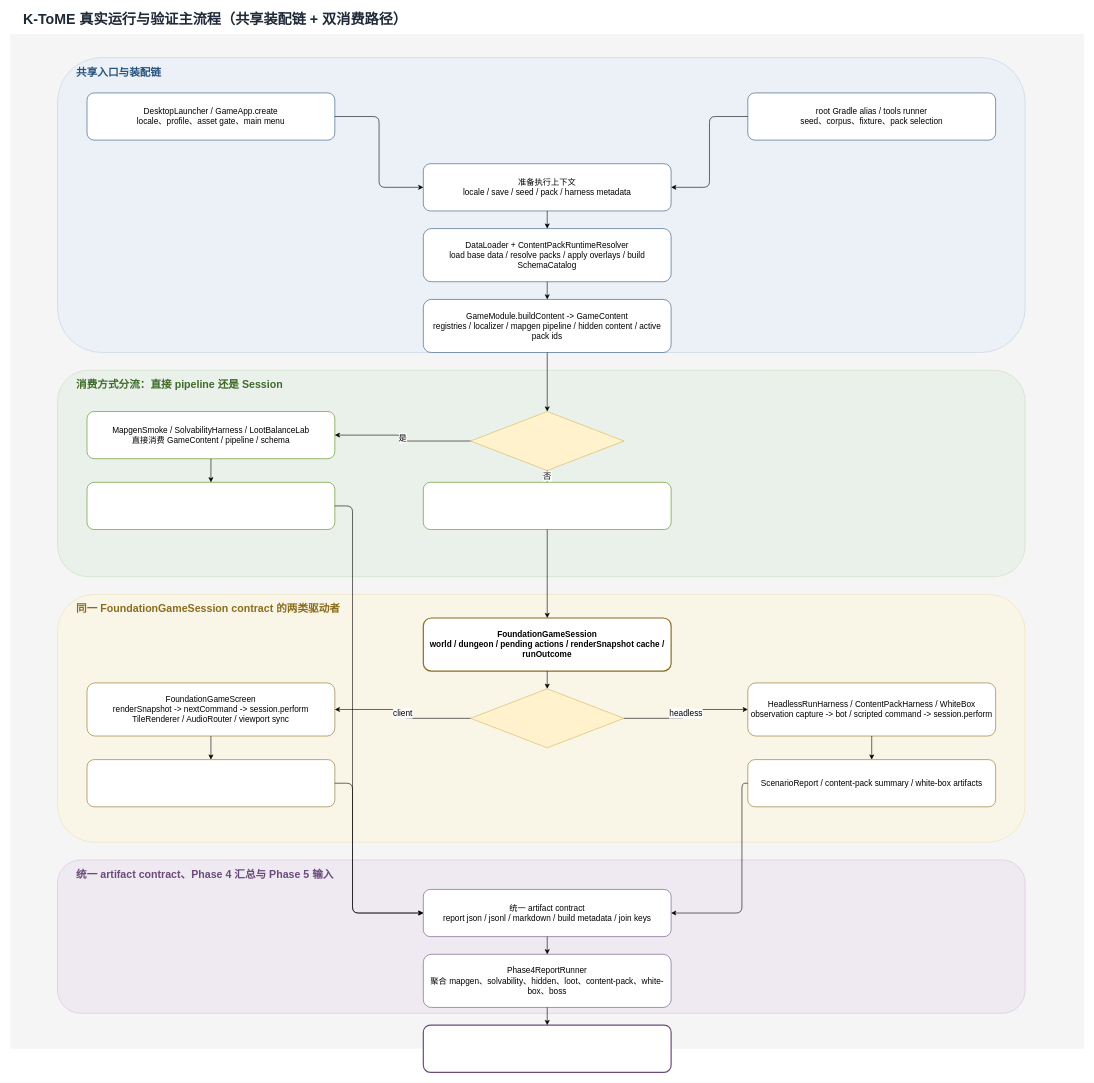
Image size: 1094x1083. Some labels were removed from this diagram. Here are the shapes that lost their labels. From the top down, the box of each, then its label:
(470, 411, 624, 471): 直接消费 pipeline / schema？
(86, 482, 335, 530): per-case JSON / summary / white-box aggregate
(423, 482, 671, 530): GameModule.new / loadFoundationSession new run 或 save snapshot round-trip
(470, 688, 624, 748): 谁来驱动 同一 Session？
(86, 759, 335, 807): Save / Continue / Outcome / ProfileProgression
(422, 1024, 671, 1073): Phase 5 输入 Tactical AI / replay / perf & soak / QA / packageRelease
